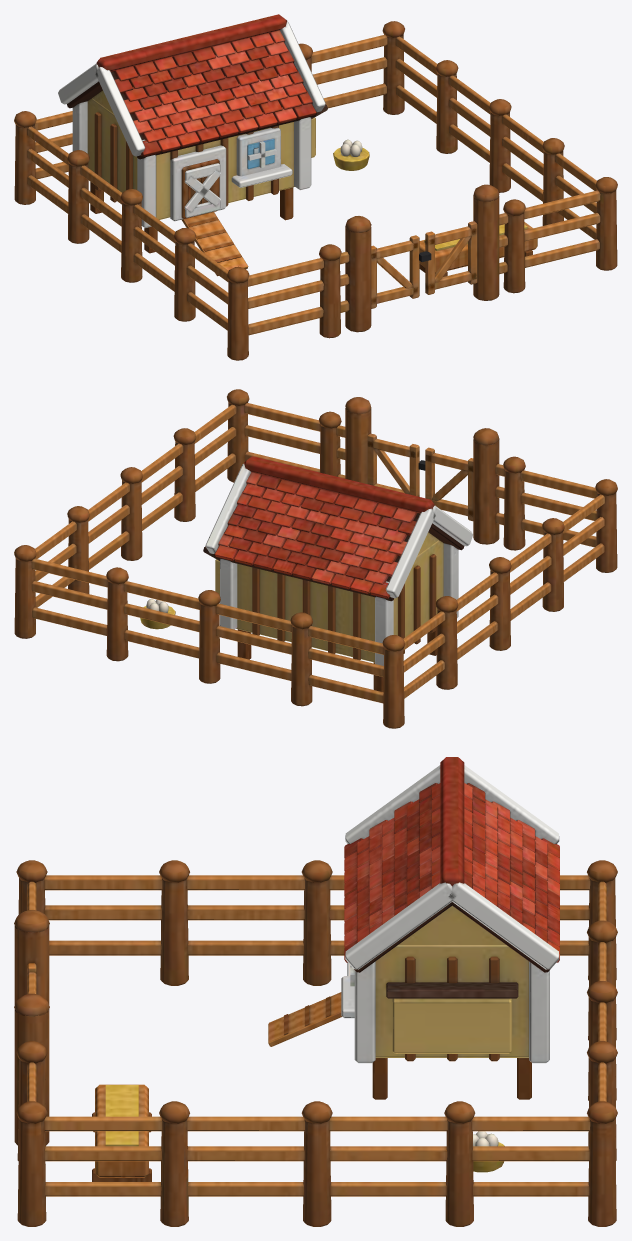
File: coop.glb
The picture shows the model from 3 angles, top to bottom: view 1: azimuth 30°, elevation 25°; view 2: azimuth 150°, elevation 25°; view 3: azimuth 270°, elevation 25°; orthographic projection. The views are drawn at different scales.
Visible parts, largest first — view 1: coop; view 2: coop; view 3: coop.
Part boxes in pixels (x1=…): coop: x1=14, y1=14, x2=617, y2=360; coop: x1=14, y1=389, x2=617, y2=728; coop: x1=14, y1=757, x2=617, y2=1226.
Size of the model in its own units: 2 by 0.8813 by 2.01.
Materials: 1 (1 with a texture image).
